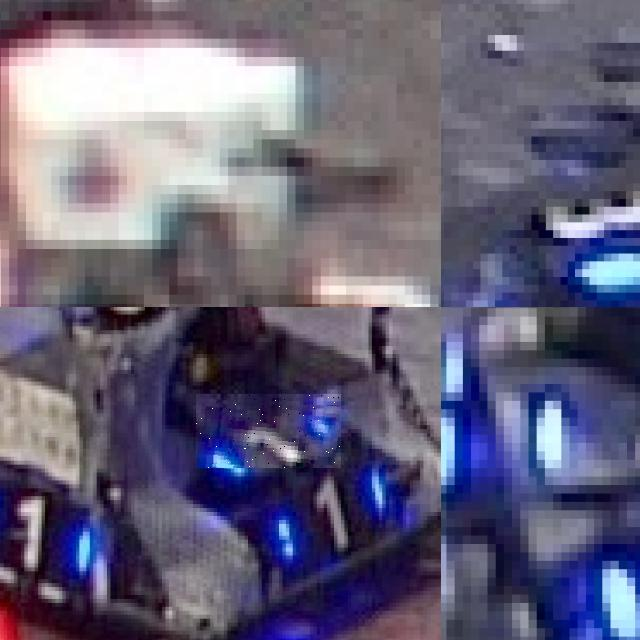B1: (258, 468, 392, 556), (196, 394, 341, 468), (0, 478, 96, 569)
B3: (520, 342, 640, 485), (585, 510, 640, 640)
